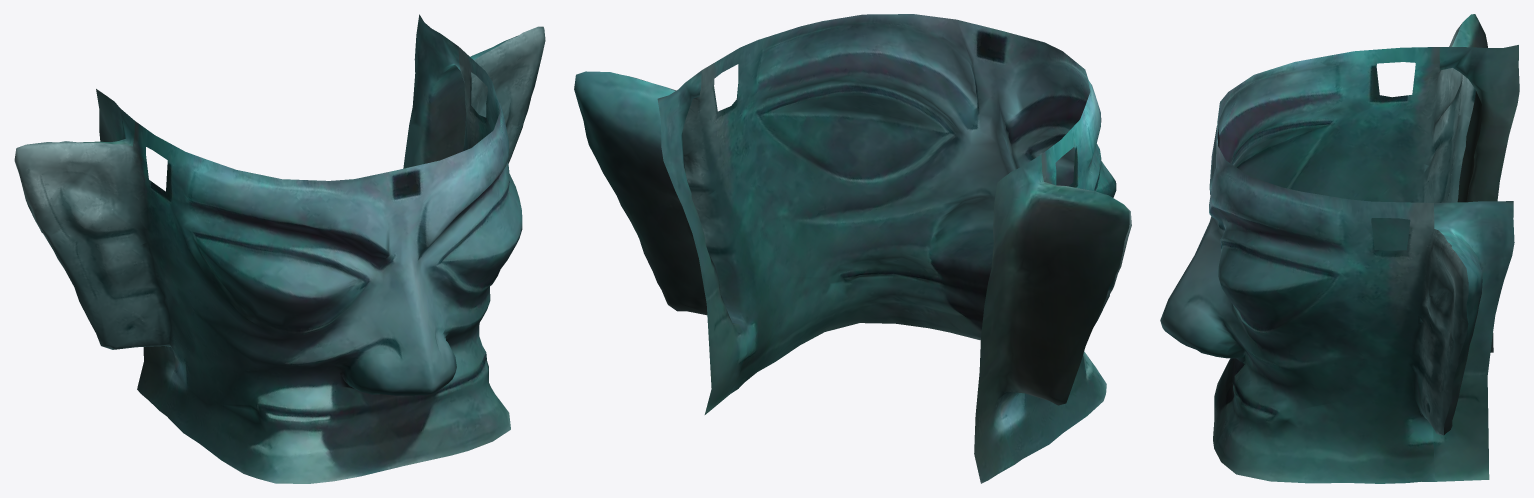
The model's file is sanxingdui-3-mask.glb.
3 views of the same model, side by side, from view 1: azimuth 30°, elevation 25°; view 2: azimuth 150°, elevation 25°; view 3: azimuth 270°, elevation 25° (orthographic). The views are drawn at different scales.
Parts seen in each view (by area): view 1: 000-0-0_Material.002_0; view 2: 000-0-0_Material.002_0; view 3: 000-0-0_Material.002_0.
Part boxes in pixels (<box>): 000-0-0_Material.002_0: <box>14,14,545,483</box>; 000-0-0_Material.002_0: <box>574,14,1131,483</box>; 000-0-0_Material.002_0: <box>1160,14,1519,483</box>.
Bounding box in the file's own units: 5.17 × 2.85 × 3.11.
1 material, 1 textured.
